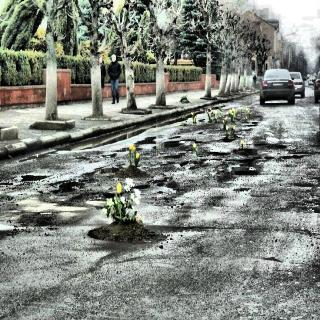pothole: (10, 135, 312, 200), (239, 112, 263, 132)
